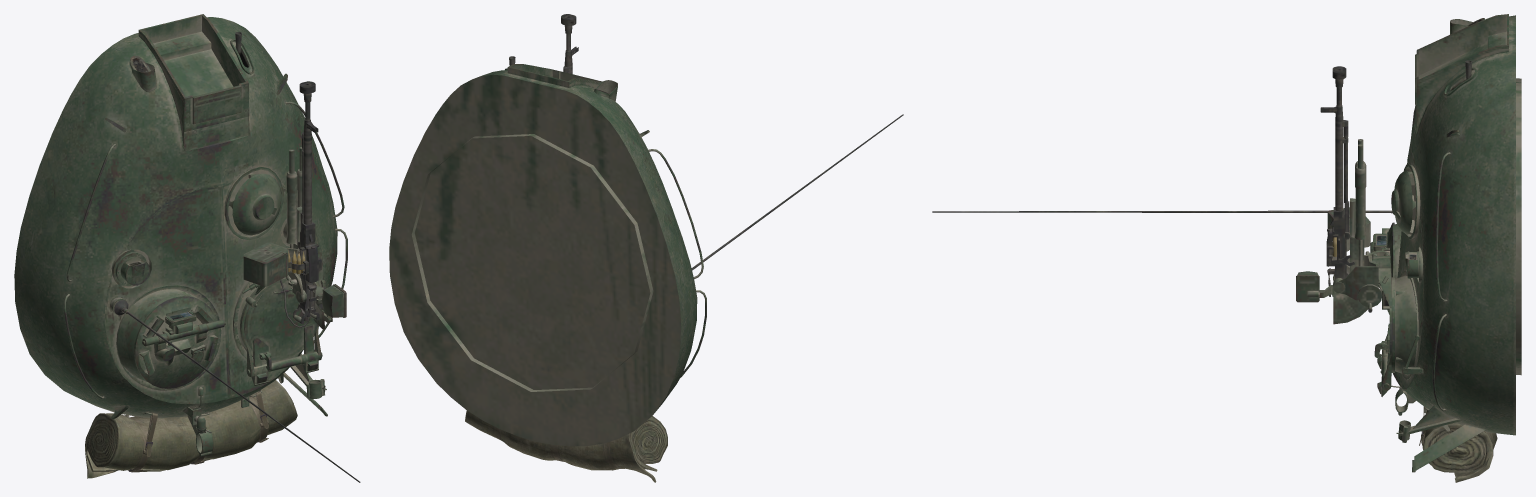
The model's file is Turret_01.glb.
The picture shows the model from 3 angles, left to right: view 1: azimuth 30°, elevation 25°; view 2: azimuth 150°, elevation 25°; view 3: azimuth 270°, elevation 25°; orthographic projection. The views are drawn at different scales.
Parts seen in each view (by area): view 1: set_0_group_0, set_0_group_1; view 2: set_0_group_0, set_0_group_1; view 3: set_0_group_0, set_0_group_1.
Boxes of the visible parts, x1,y1,x2,y2 form: set_0_group_0: (14,14,360,482); set_0_group_1: (85,380,297,478); set_0_group_0: (389,14,903,446); set_0_group_1: (465,410,667,482); set_0_group_0: (932,14,1521,472); set_0_group_1: (1419,407,1497,482).
Bounding box in the file's own units: 2.19 × 2.88 × 3.62.
Materials: 2 (2 with a texture image).
